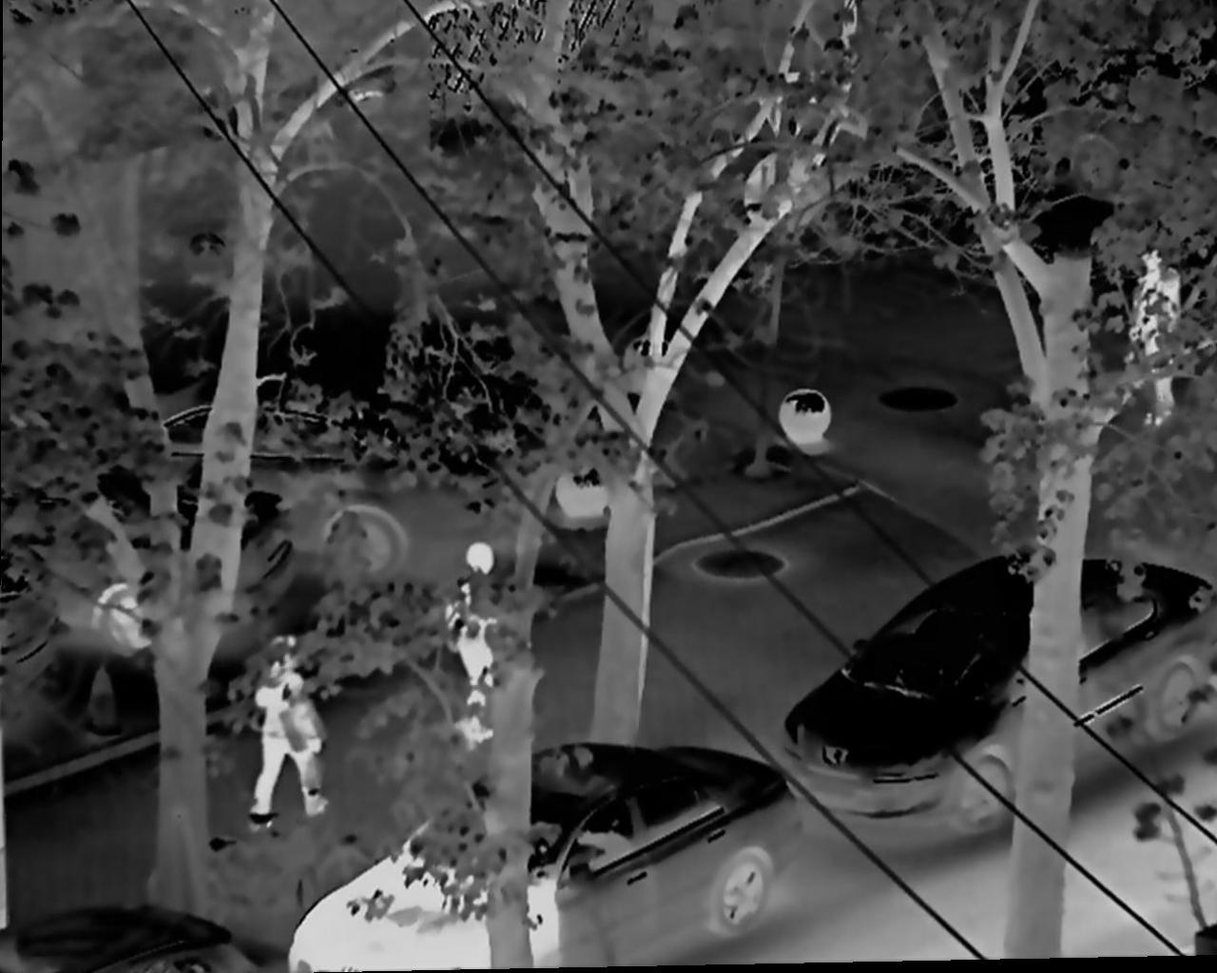person: (249, 640, 338, 840), (453, 522, 513, 748), (1126, 247, 1184, 447)
